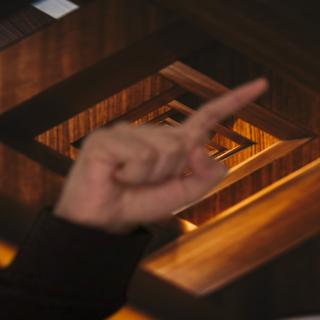WHY: (52, 69, 276, 228)
